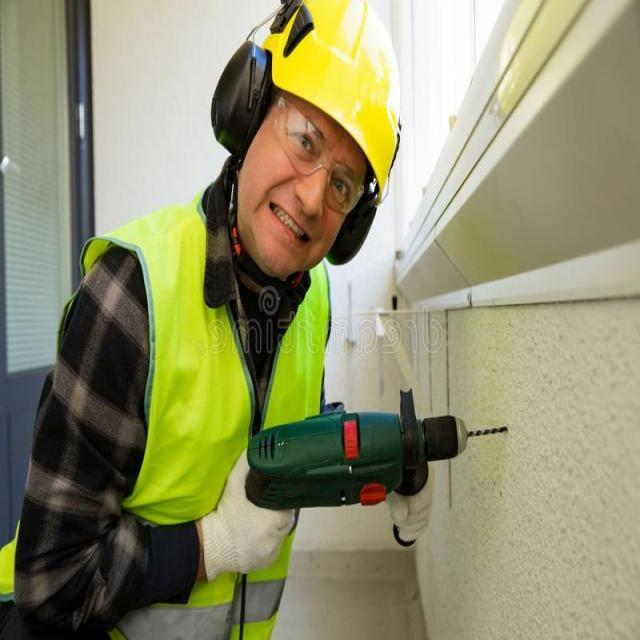reflective_jacket: (79, 206, 333, 634)
safety_helmet: (254, 3, 404, 193)
